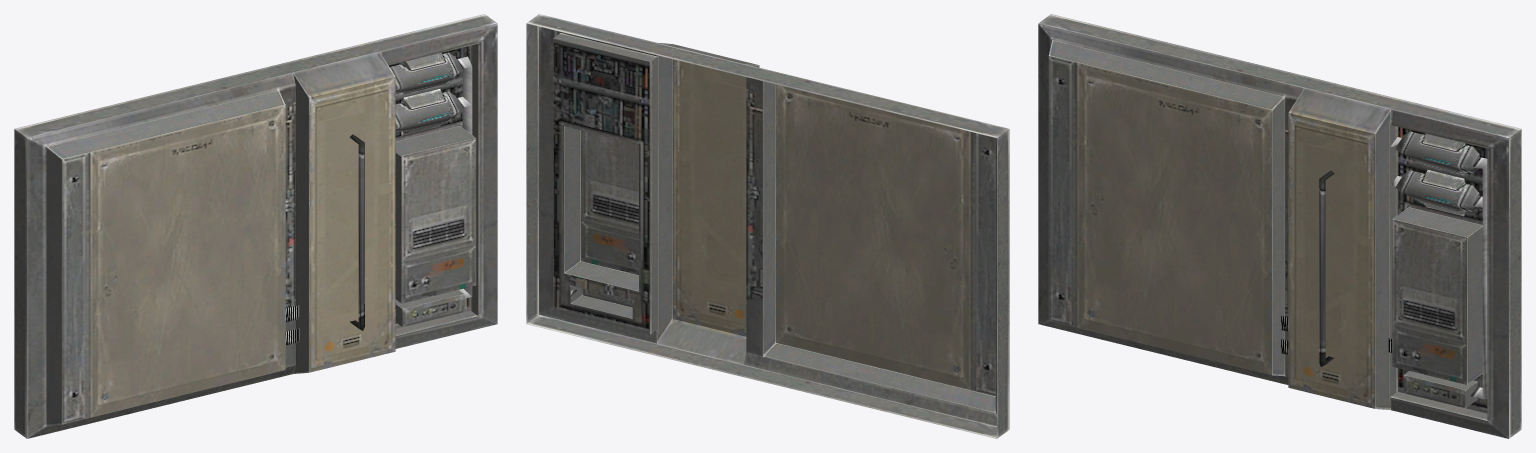
The model's file is pob_station_tech_panel_l1.fbx.
The picture shows the model from 3 angles, left to right: view 1: azimuth 30°, elevation 25°; view 2: azimuth 150°, elevation 25°; view 3: azimuth 330°, elevation 25°; orthographic projection.
Visible parts, largest first — view 1: mesh_node; view 2: mesh_node; view 3: mesh_node.
Boxes of the visible parts, left/top/right/bottom form: mesh_node: left=14, top=14, right=497, bottom=438; mesh_node: left=526, top=14, right=1009, bottom=438; mesh_node: left=1038, top=14, right=1521, bottom=438.
Bounding box in the file's own units: 1.28 × 0.7794 × 0.1852.
Materials: 1 (1 with a texture image).
